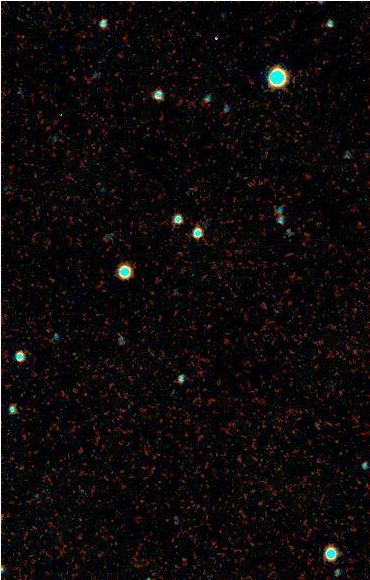star: (198, 20, 228, 50)
